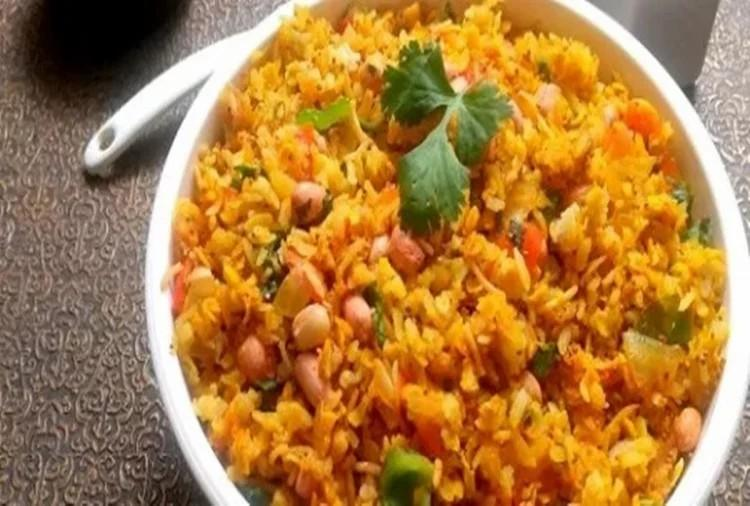Poha: (169, 0, 730, 506)
